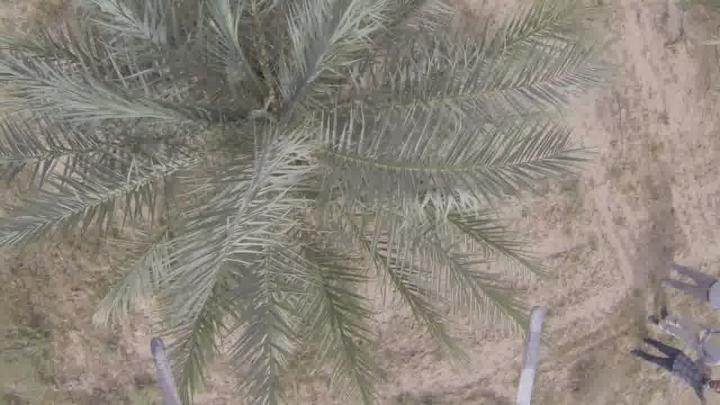Date-Palm-Crown: (78, 6, 450, 292)
